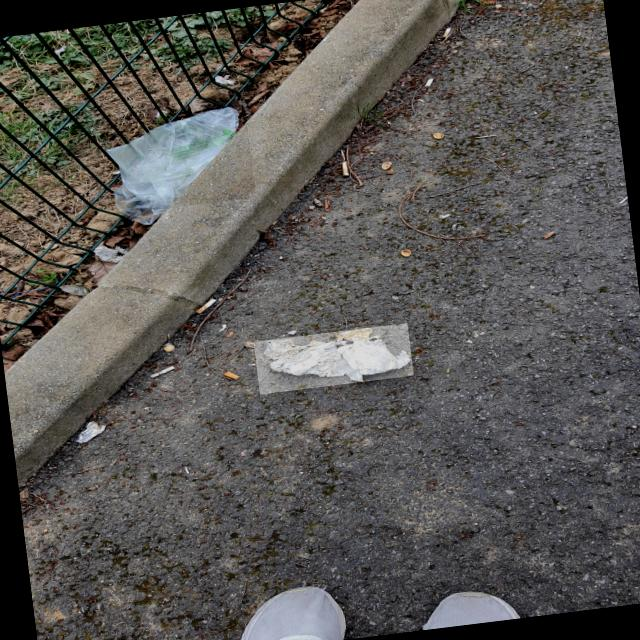Aluminium foil: (254, 322, 414, 393)
Plastic bag wrapper: (102, 104, 256, 214)
